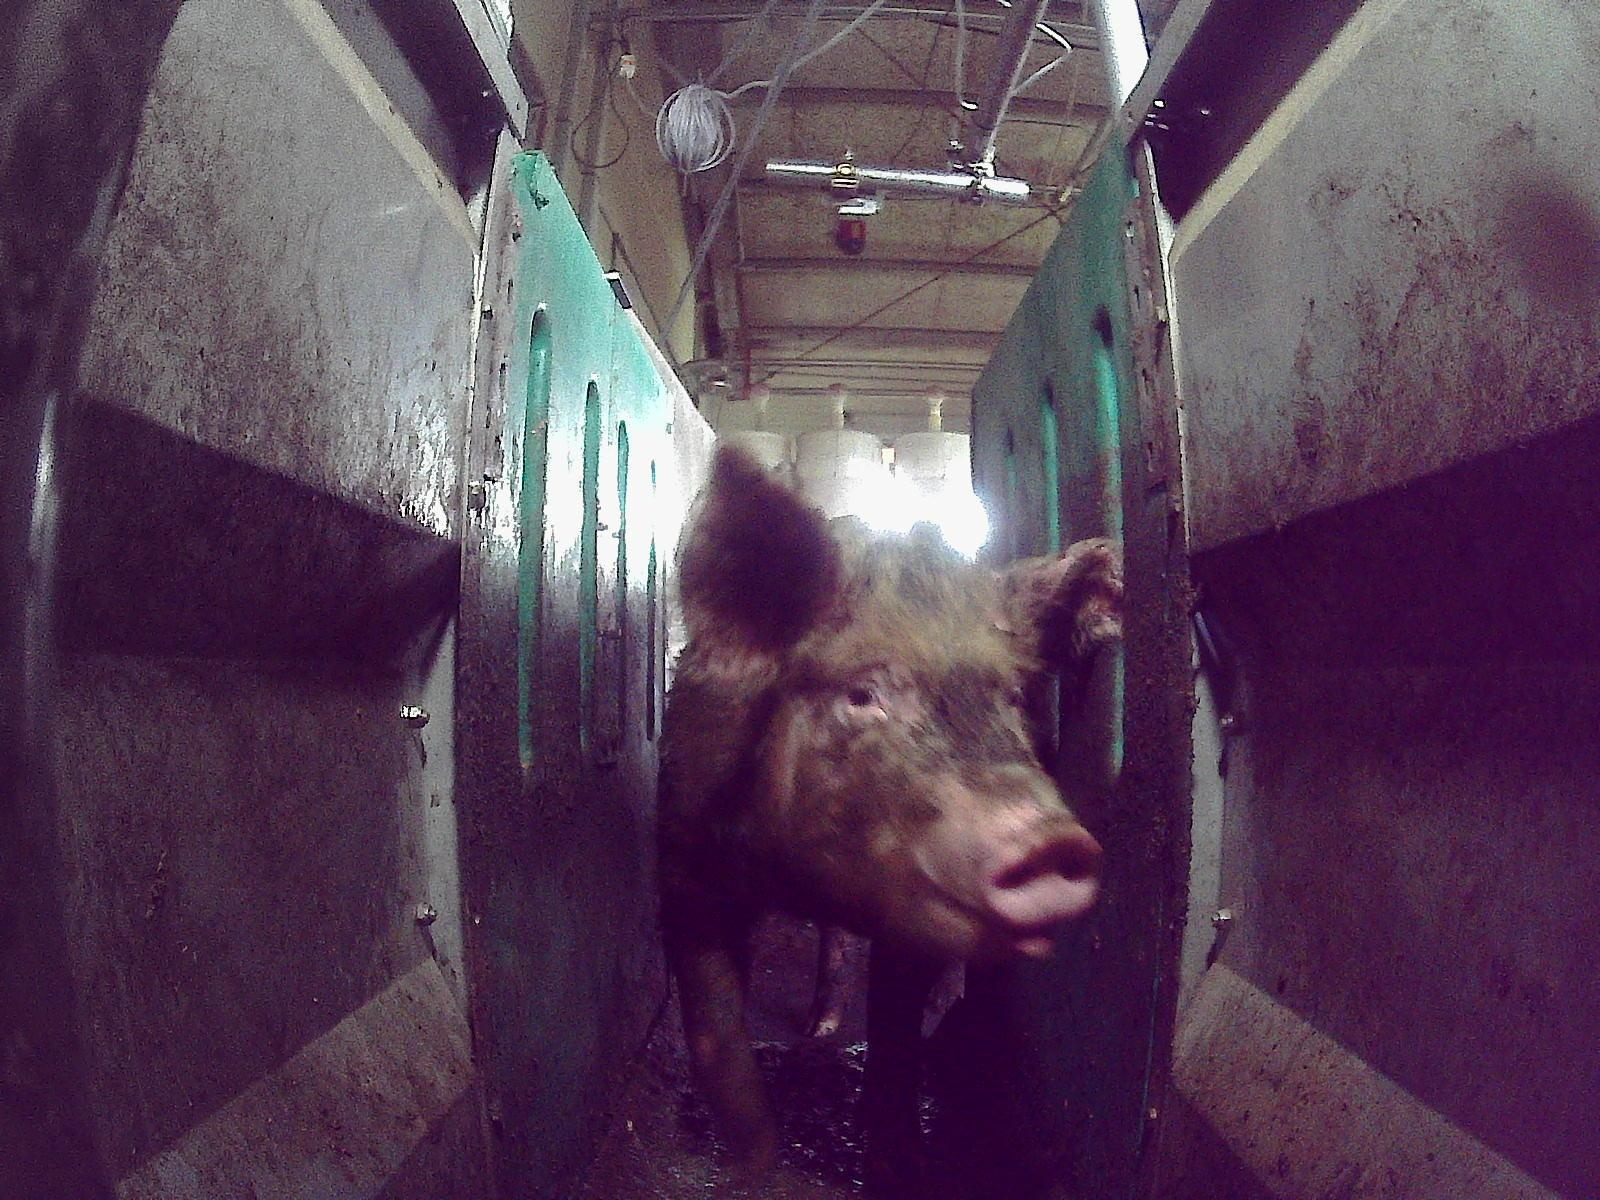Face: (738, 527, 1101, 962)
